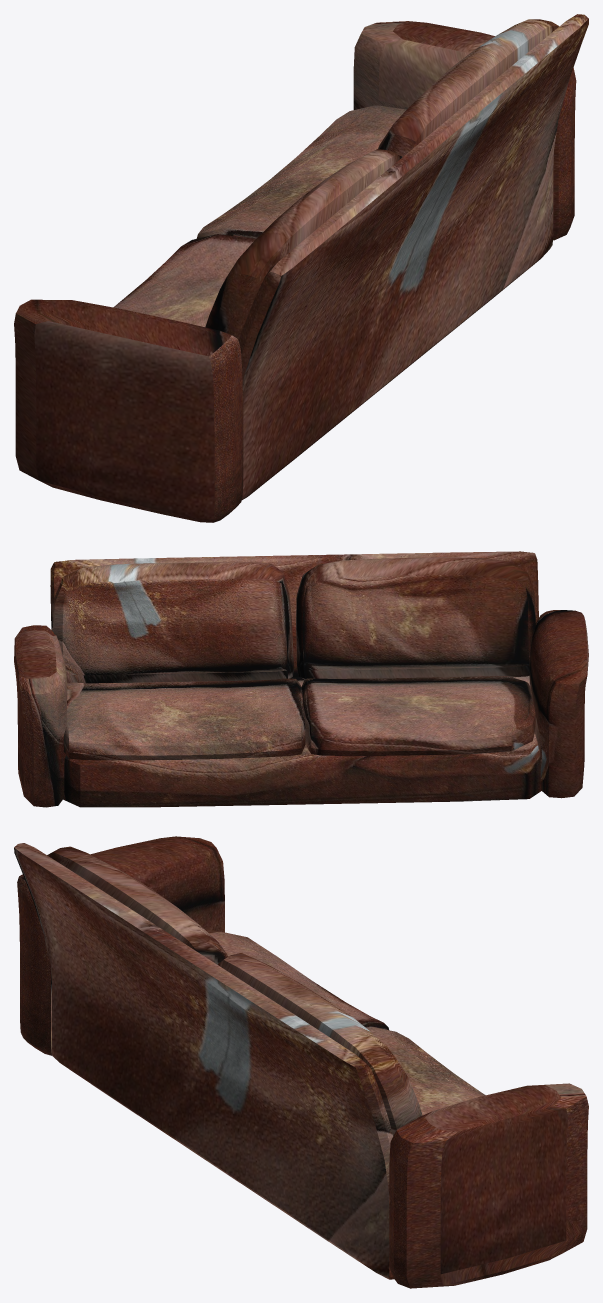
Rendered from SM_Scene_A_Couch00.fbx.
3 renders of one model, top to bottom at view 1: azimuth 30°, elevation 25°; view 2: azimuth 150°, elevation 25°; view 3: azimuth 270°, elevation 25°, orthographic. The views are drawn at different scales.
Visible parts, largest first — view 1: SM_Scene_A_Couch00; view 2: SM_Scene_A_Couch00; view 3: SM_Scene_A_Couch00.
Boxes of the visible parts, <box> form: SM_Scene_A_Couch00: <box>14,14,588,522</box>; SM_Scene_A_Couch00: <box>14,551,588,807</box>; SM_Scene_A_Couch00: <box>14,836,588,1288</box>.
Bounding box in the file's own units: 361 × 129 × 289.
